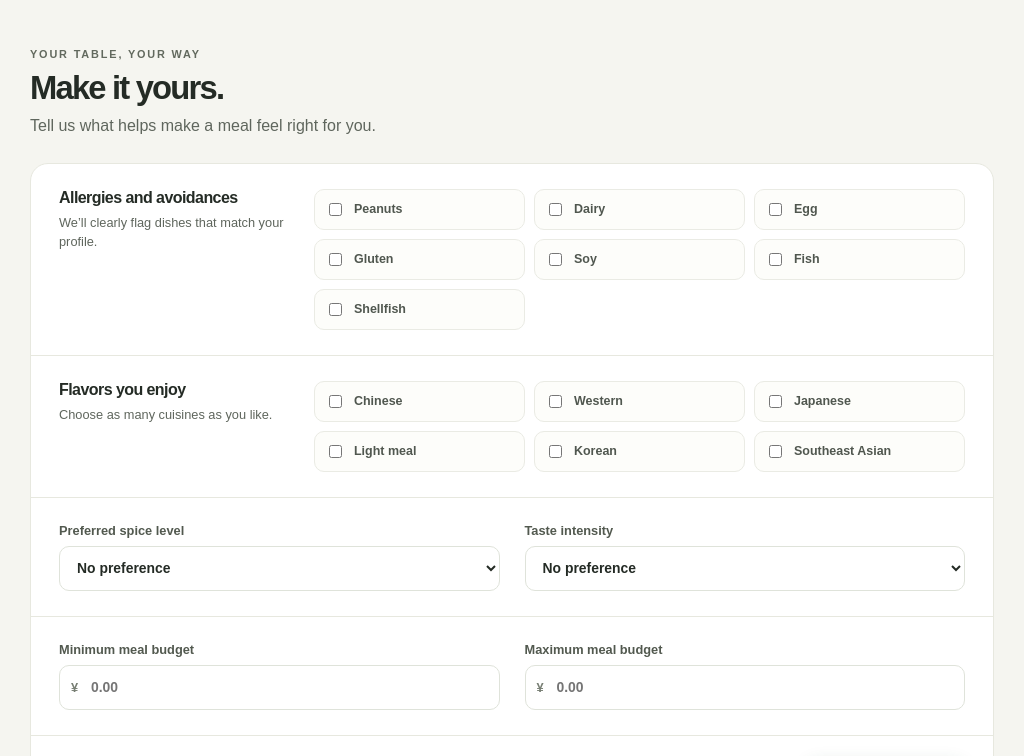
preference editor › saves allergen, cuisine, spice, and budget preferences through the API contract
Expected: the heading "Make it yours." is shown, [30,69,223,106]
Click the checkbox labelled "Peanuts" at [336, 209], box [329,203,342,216]
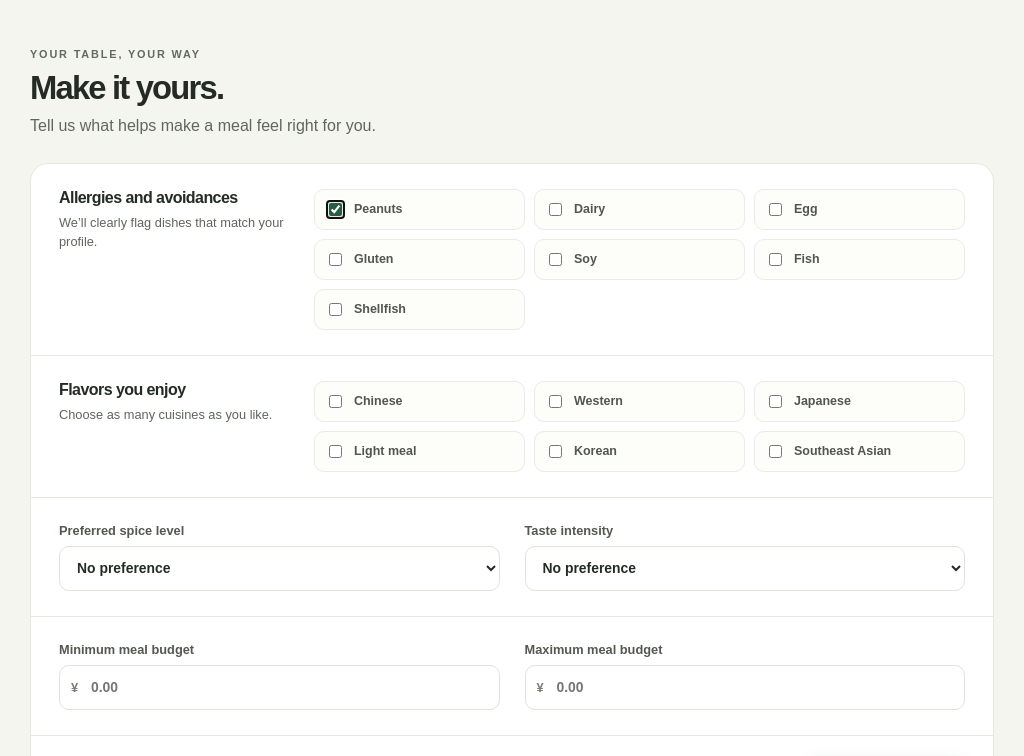
Click the checkbox labelled "Japanese" at [776, 401], box [769,395,782,408]
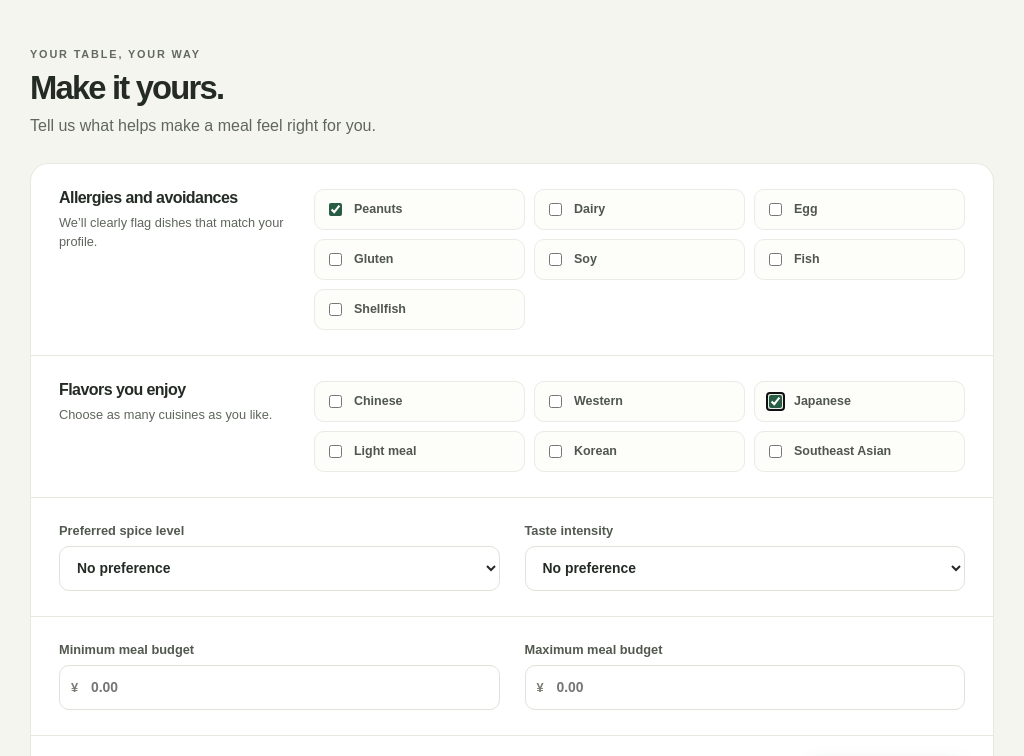
Select "Mild" in the dropdown labelled "Preferred spice level" at [279, 568], box [59,546,500,591]
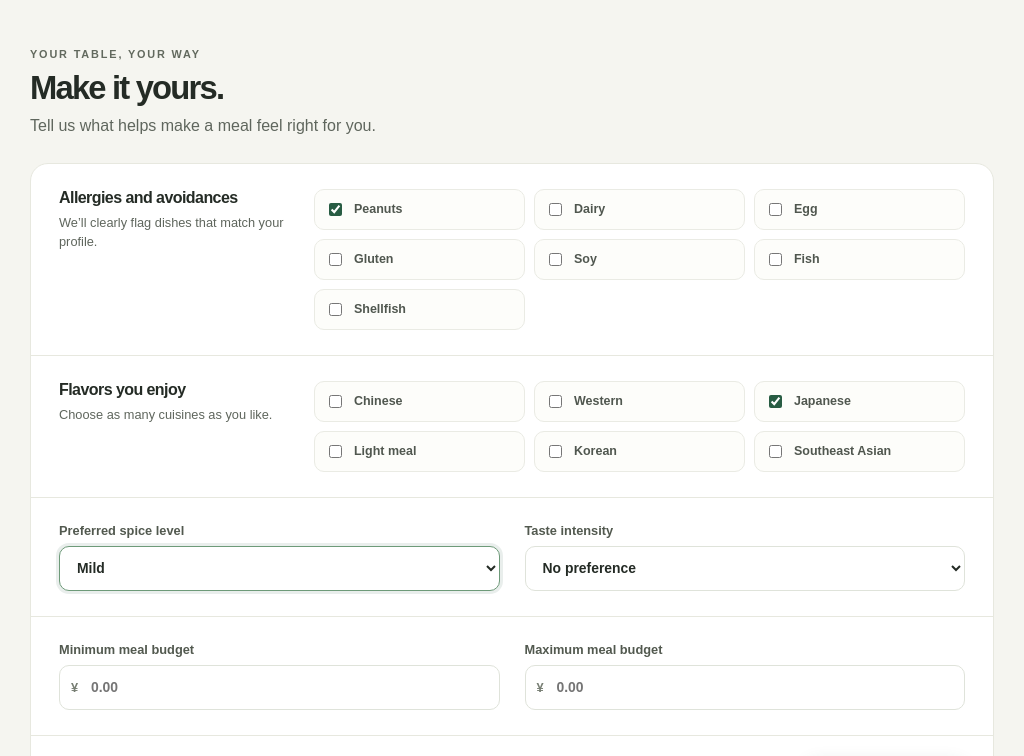
Type "25.00" into the field labelled "Maximum meal budget" at [745, 687], box [524,665,965,710]
(page scrolled)
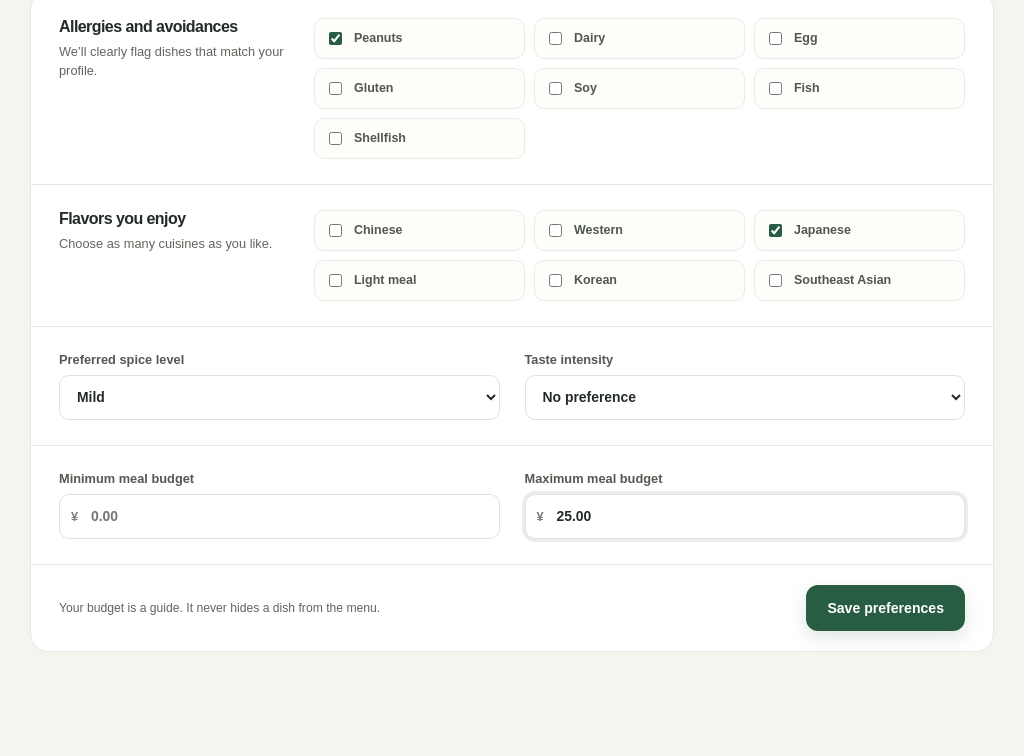
Click the button "Save preferences" at [886, 608], box [806,585,965,631]
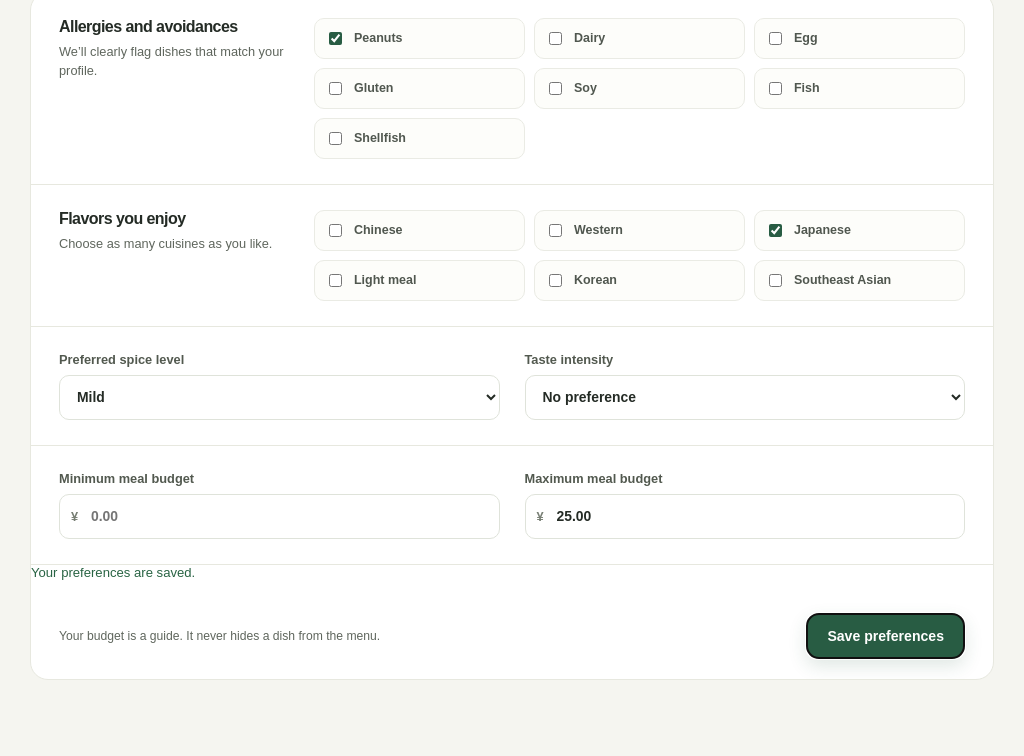
Result: the text "Your preferences are saved." is shown at [31,565,195,580]
